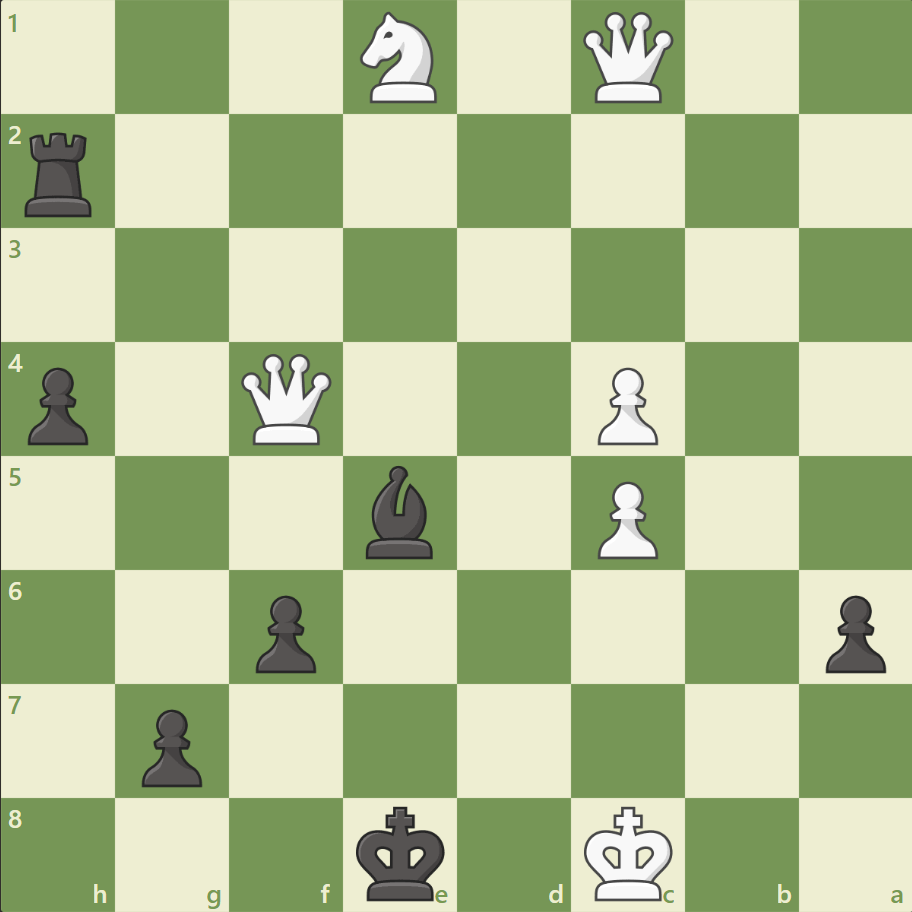K: (579, 798, 679, 906)
N: (351, 7, 449, 110)
P: (588, 473, 662, 564), (588, 359, 662, 450)
Q: (237, 349, 336, 449), (578, 9, 677, 108)
b: (358, 460, 442, 563)
k: (351, 798, 451, 906)
p: (133, 700, 208, 791), (247, 586, 322, 677), (20, 359, 95, 450), (815, 586, 889, 677)
r: (19, 125, 102, 222)
